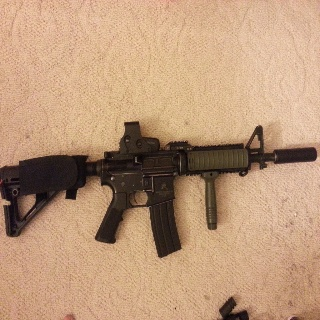rifle: (1, 118, 318, 262)
